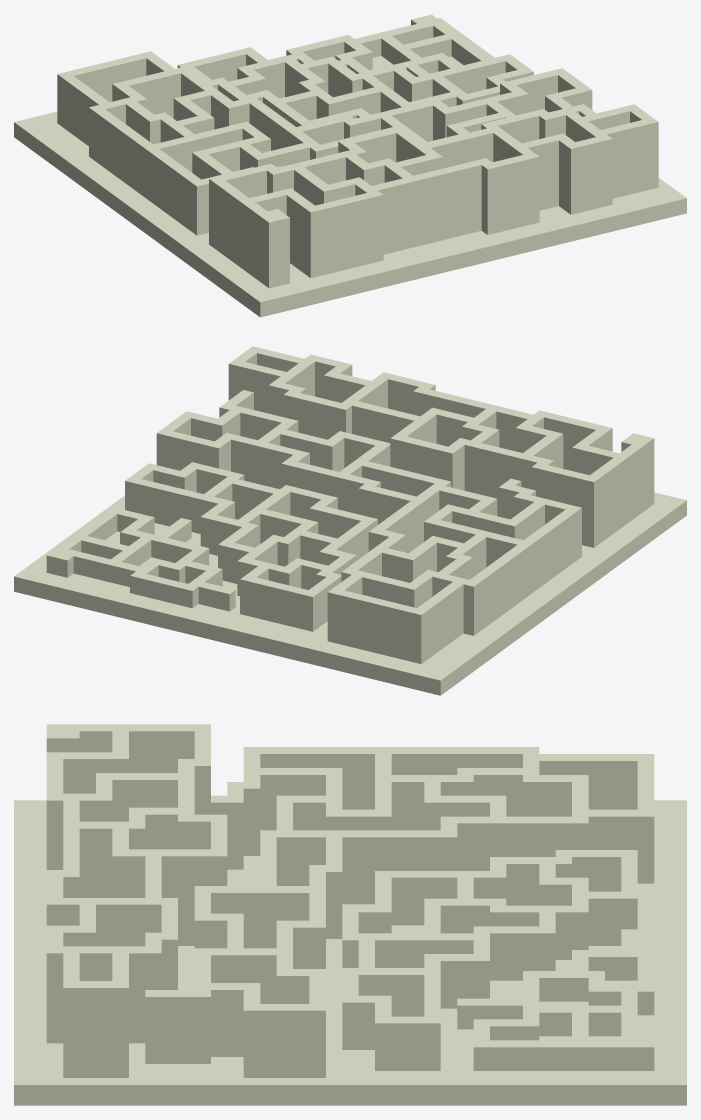
Rendered from mapforgame.fbx.
3 renders of one model, top to bottom at view 1: azimuth 30°, elevation 25°; view 2: azimuth 150°, elevation 25°; view 3: azimuth 270°, elevation 25°, orthographic. The views are drawn at different scales.
Visible parts, largest first — view 1: Cube; view 2: Cube; view 3: Cube.
Part boxes in pixels (box(x1,y1,x2,y2)): Cube: box(14, 14, 686, 317); Cube: box(14, 346, 686, 695); Cube: box(14, 724, 686, 1105).
Bounding box in the file's own units: 2506 × 454 × 2506.
